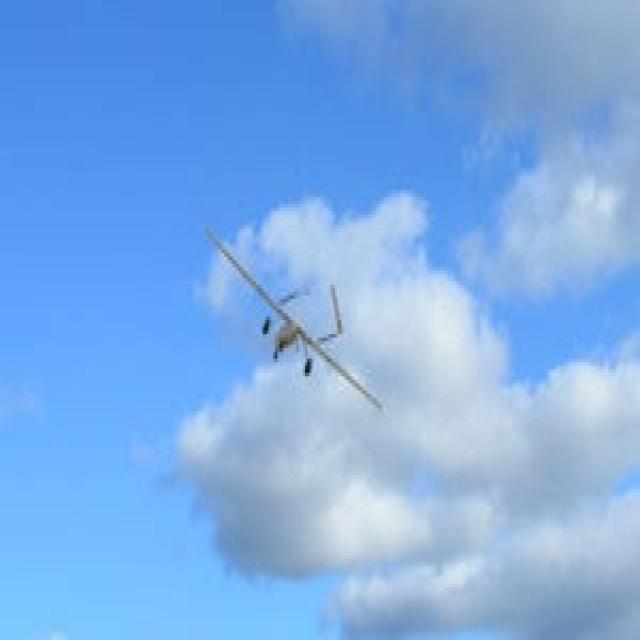iha: (204, 224, 384, 414)
